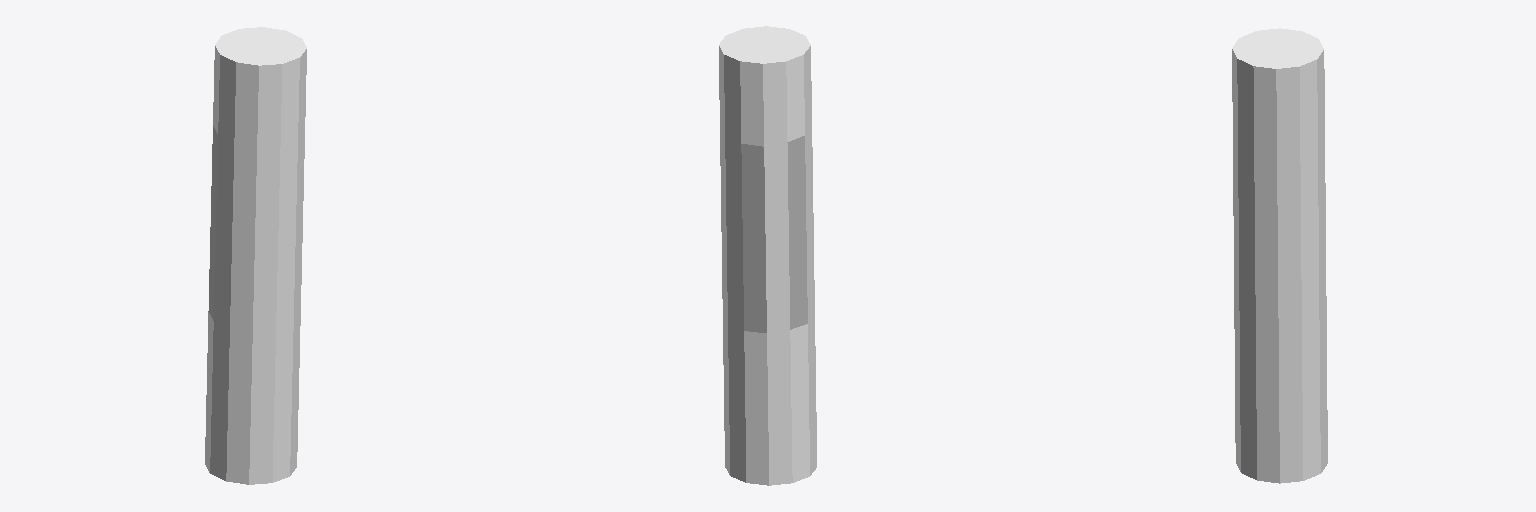
Rendered from Spaceship1.obj.
3 renders of one model, left to right at view 1: azimuth 30°, elevation 25°; view 2: azimuth 150°, elevation 25°; view 3: azimuth 270°, elevation 25°, orthographic.
Parts seen in each view (by area): view 1: group[number redacted]; view 2: group[number redacted]; view 3: group[number redacted].
Boxes of the visible parts, <box> form: group[number redacted]: <box>205,27,306,484</box>; group[number redacted]: <box>719,26,816,485</box>; group[number redacted]: <box>1232,28,1327,483</box>.
Size of the model in its own units: 0.0771 by 0.3514 by 0.0727.